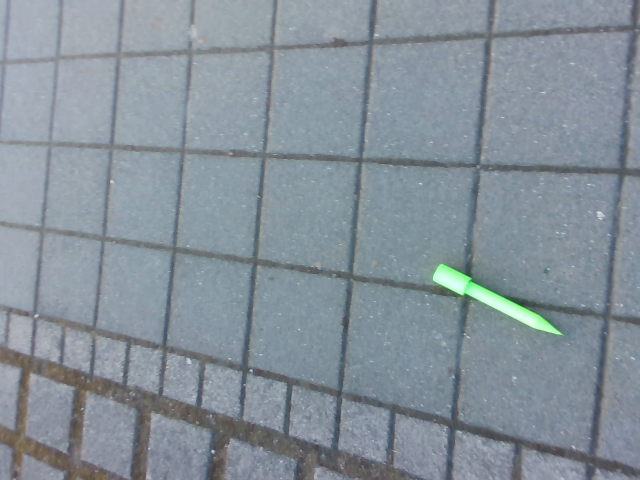Probe: (430, 253, 566, 344)
